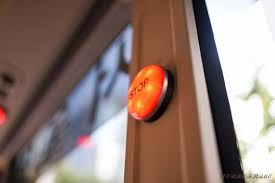bell: (125, 61, 173, 126)
